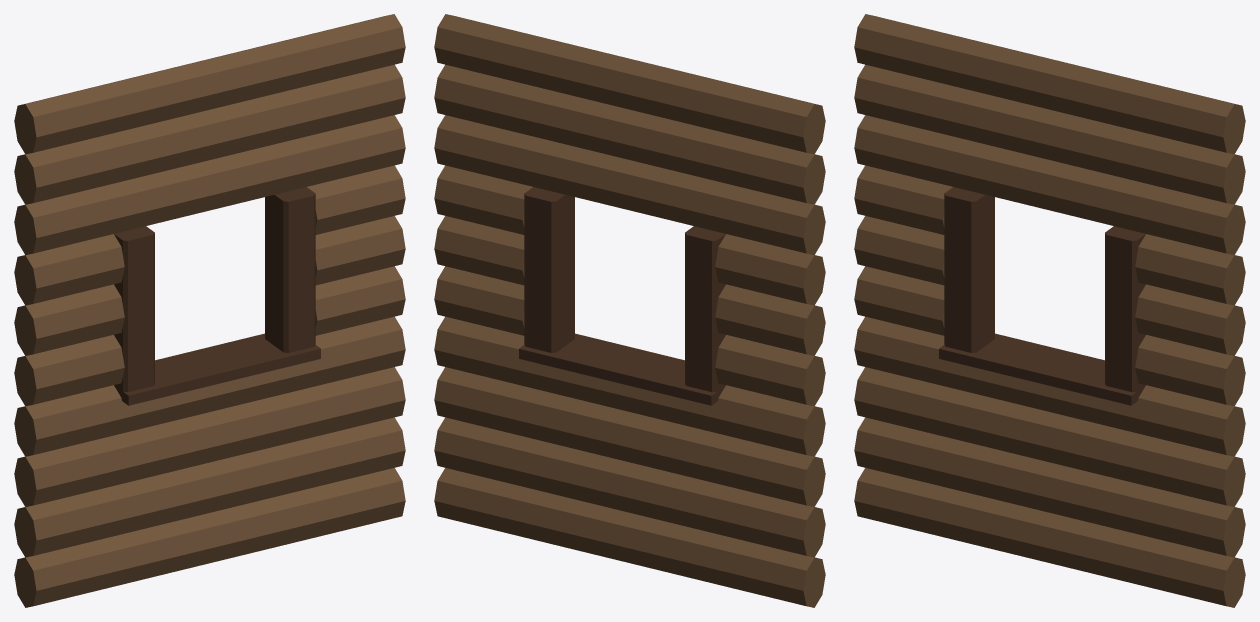
Rendered from wall_log_window_lod0.glb.
The picture shows the model from 3 angles, left to right: view 1: azimuth 30°, elevation 25°; view 2: azimuth 150°, elevation 25°; view 3: azimuth 330°, elevation 25°; orthographic projection.
Parts seen in each view (by area): view 1: wall_log_window; view 2: wall_log_window; view 3: wall_log_window.
Boxes of the visible parts, bbox=[...] form: wall_log_window: bbox=[14, 14, 405, 607]; wall_log_window: bbox=[434, 14, 825, 607]; wall_log_window: bbox=[854, 14, 1245, 607].
Bounding box in the file's own units: 2.3 × 3 × 0.32.
